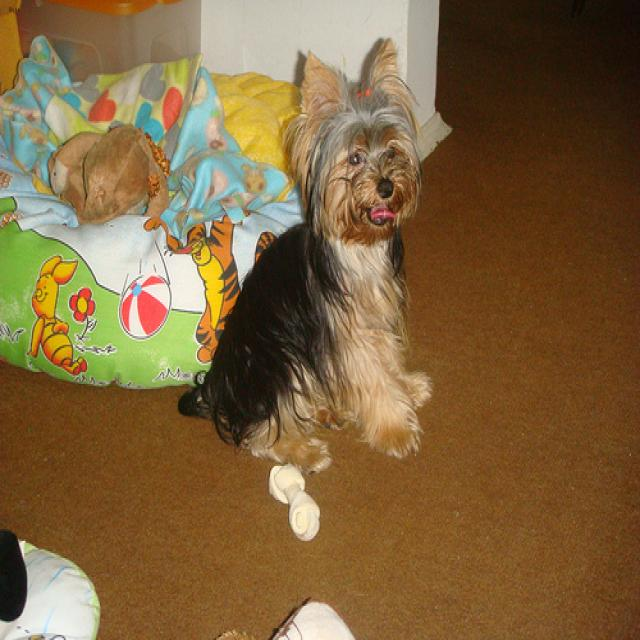dog-yorkshire_terrier: (172, 27, 442, 485)
